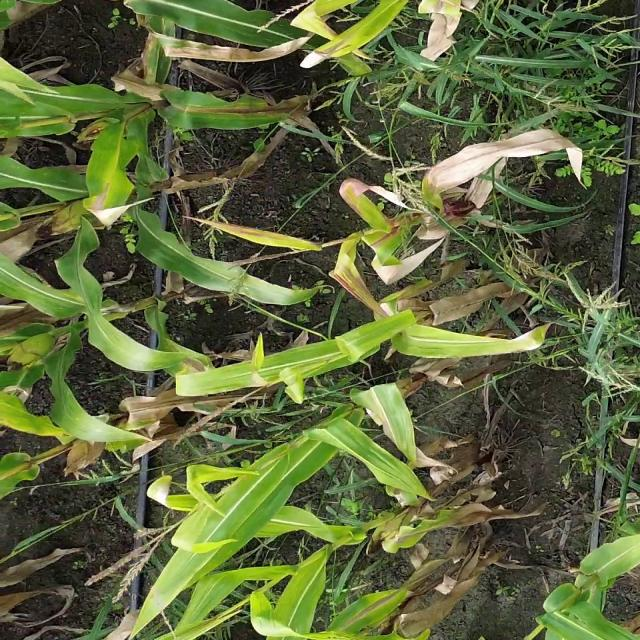northern-leaf-blight: (322, 247, 387, 321), (81, 176, 151, 238), (170, 96, 307, 127), (345, 393, 414, 453), (11, 401, 73, 444)
